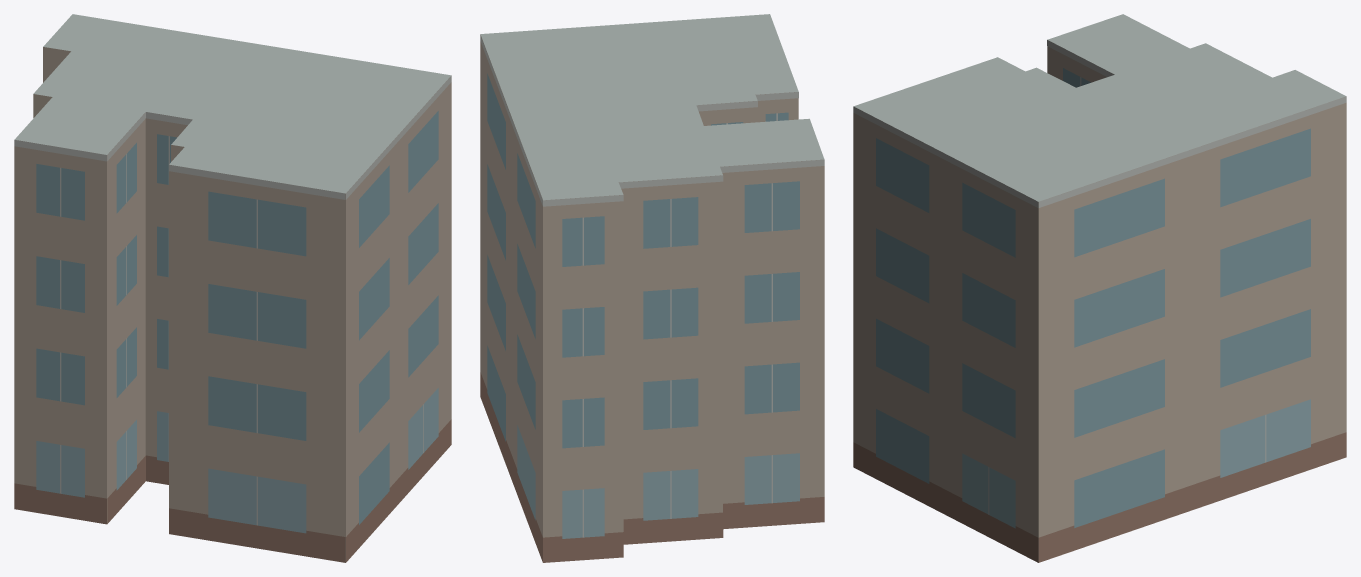
Rendered from survey-upis-32773763.glb.
3 renders of one model, left to right at view 1: azimuth 30°, elevation 25°; view 2: azimuth 150°, elevation 25°; view 3: azimuth 270°, elevation 25°, orthographic. The views are drawn at different scales.
Visible parts, largest first — view 1: survey-upis-32773763.tmp; view 2: survey-upis-32773763.tmp; view 3: survey-upis-32773763.tmp.
Part boxes in pixels (x1,y1,x2,y2): survey-upis-32773763.tmp: (14, 14, 451, 562); survey-upis-32773763.tmp: (480, 14, 824, 562); survey-upis-32773763.tmp: (853, 14, 1346, 562).
Bounding box in the file's own units: 15.41 × 13.8 × 17.09.
